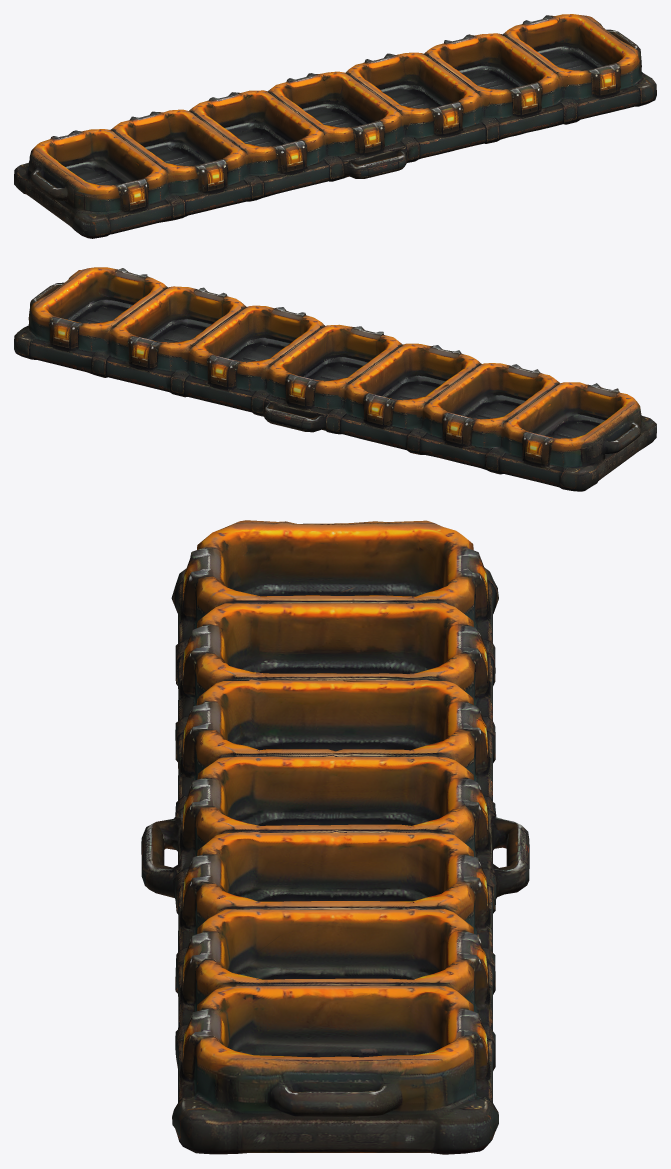
The model's file is Meshy_AI_Dock_Caution_0424154706_texture_fbx.fbx.
3 views of the same model, one above another, from view 1: azimuth 30°, elevation 25°; view 2: azimuth 150°, elevation 25°; view 3: azimuth 270°, elevation 25° (orthographic). The views are drawn at different scales.
Parts seen in each view (by area): view 1: Mesh_0.001; view 2: Mesh_0.001; view 3: Mesh_0.001.
Boxes of the visible parts, x1=… form: Mesh_0.001: x1=14, y1=14, x2=656, y2=238; Mesh_0.001: x1=14, y1=267, x2=656, y2=491; Mesh_0.001: x1=141, y1=520, x2=529, y2=1154.
Size of the model in its own units: 846 by 60 by 241.
1 material, 1 textured.
